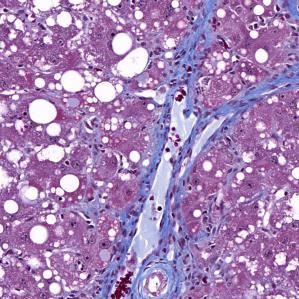fibrosis: (117, 209, 207, 299), (149, 88, 209, 196), (182, 0, 235, 71), (244, 56, 299, 107)
